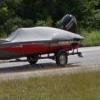Boat: (2, 21, 84, 68)
